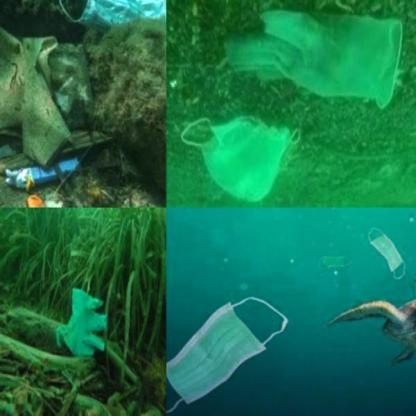Mask: (166, 279, 295, 415), (180, 115, 302, 206), (53, 0, 166, 40), (361, 222, 410, 284), (312, 244, 354, 284)
glove: (224, 9, 405, 108), (56, 287, 106, 363)
